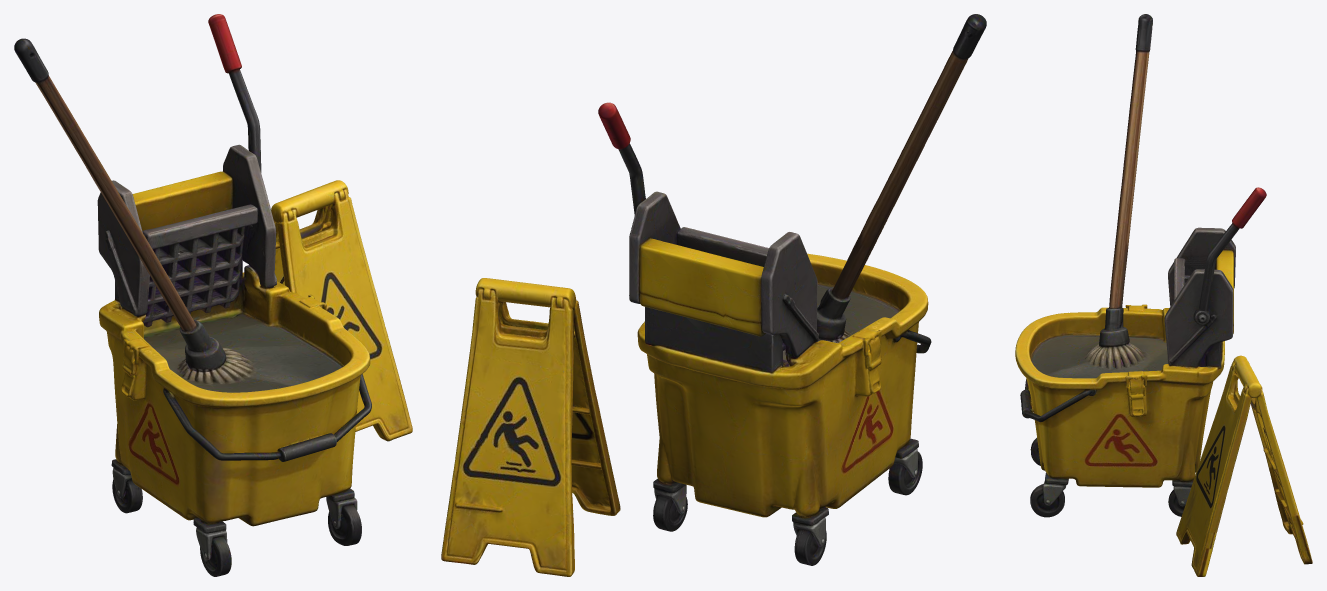
Rendered from mop_and_bucket.glb.
3 views of the same model, side by side, from view 1: azimuth 30°, elevation 25°; view 2: azimuth 150°, elevation 25°; view 3: azimuth 270°, elevation 25° (orthographic). The views are drawn at different scales.
Visible parts, largest first — view 1: mesh_node; view 2: mesh_node; view 3: mesh_node.
Boxes of the visible parts, x1,y1,x2,y2 form: mesh_node: (14, 14, 412, 576); mesh_node: (441, 14, 986, 576); mesh_node: (1015, 14, 1312, 576).
Size of the model in its own units: 1.64 by 1.9 by 1.27.
1 material, 1 textured.
